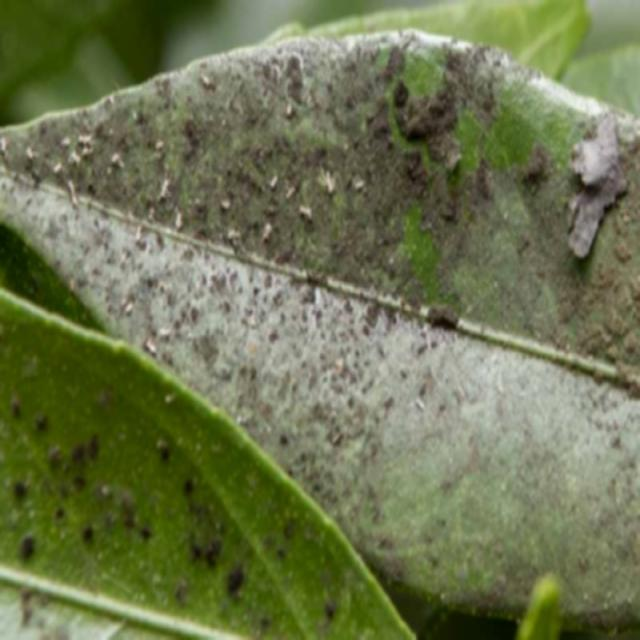Sooty Mold: (0, 23, 639, 639)
